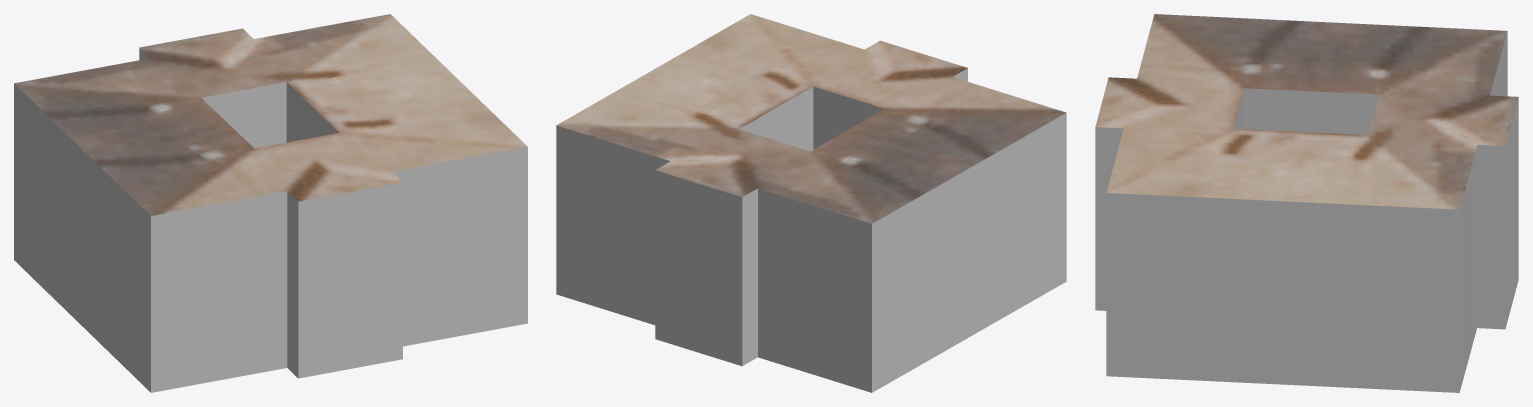
File: DEBW_0010007Txao.gltf
3 renders of one model, left to right at view 1: azimuth 30°, elevation 25°; view 2: azimuth 150°, elevation 25°; view 3: azimuth 270°, elevation 25°, orthographic. The views are drawn at different scales.
Parts seen in each view (by area): view 1: Z_UP; view 2: Z_UP; view 3: Z_UP.
Part boxes in pixels (left/top/right/bottom): Z_UP: left=14, top=14, right=527, bottom=392; Z_UP: left=556, top=14, right=1066, bottom=392; Z_UP: left=1095, top=14, right=1518, bottom=392.
Bounding box in the file's own units: 20.02 × 8.75 × 18.3.
2 materials, 1 textured.
